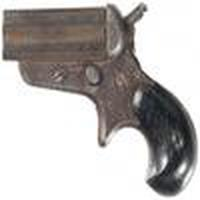gun: (1, 9, 198, 194)
